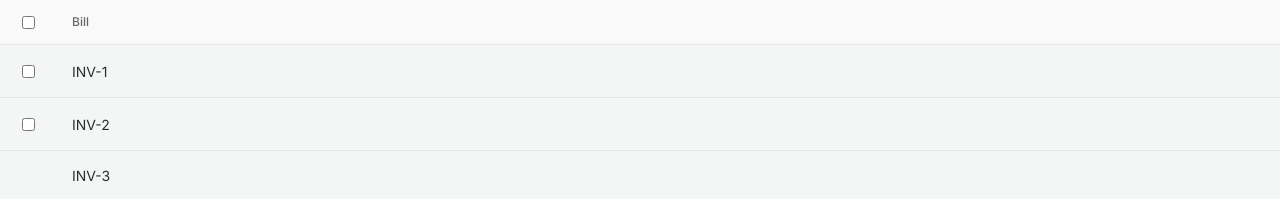
Scenario: DataTable selection › a checkbox click (or a near miss in its cell) never fires onRowClick
The width and height of the screenshot is (1280, 199).
Later steps or results of the test are not shown.
Click the checkbox named "Select INV-1" at [28, 71], box x1=22 y1=64 x2=34 y2=78
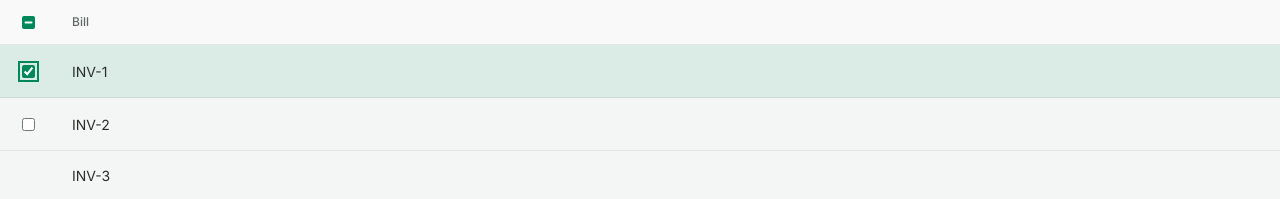
Expected: the checkbox named "Select INV-1" is checked, x1=22 y1=64 x2=34 y2=78
Click the cell named "Select INV-1" next to "INV-1" at [28, 72], box x1=0 y1=45 x2=56 y2=98
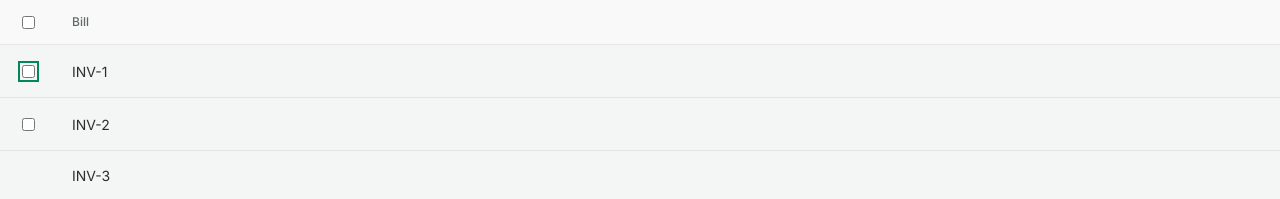
Expected: the checkbox named "Select INV-1" is not checked, x1=22 y1=64 x2=34 y2=78
Type keys " "
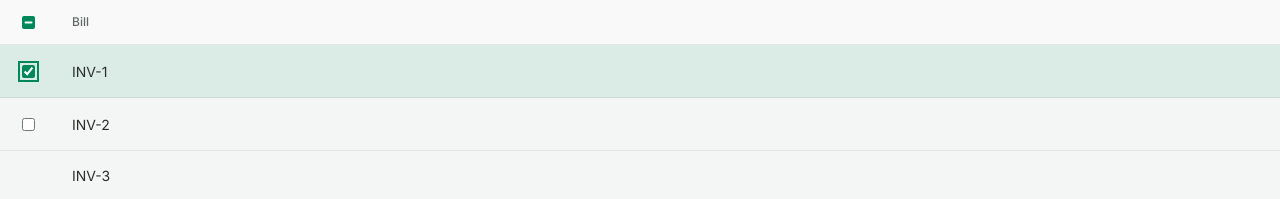
Expected: the checkbox named "Select INV-1" is checked, x1=22 y1=64 x2=34 y2=78
